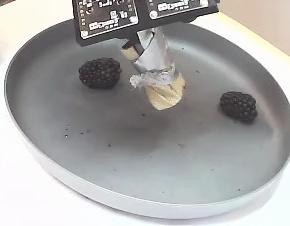berry: (79, 58, 121, 88), (219, 91, 257, 123)
